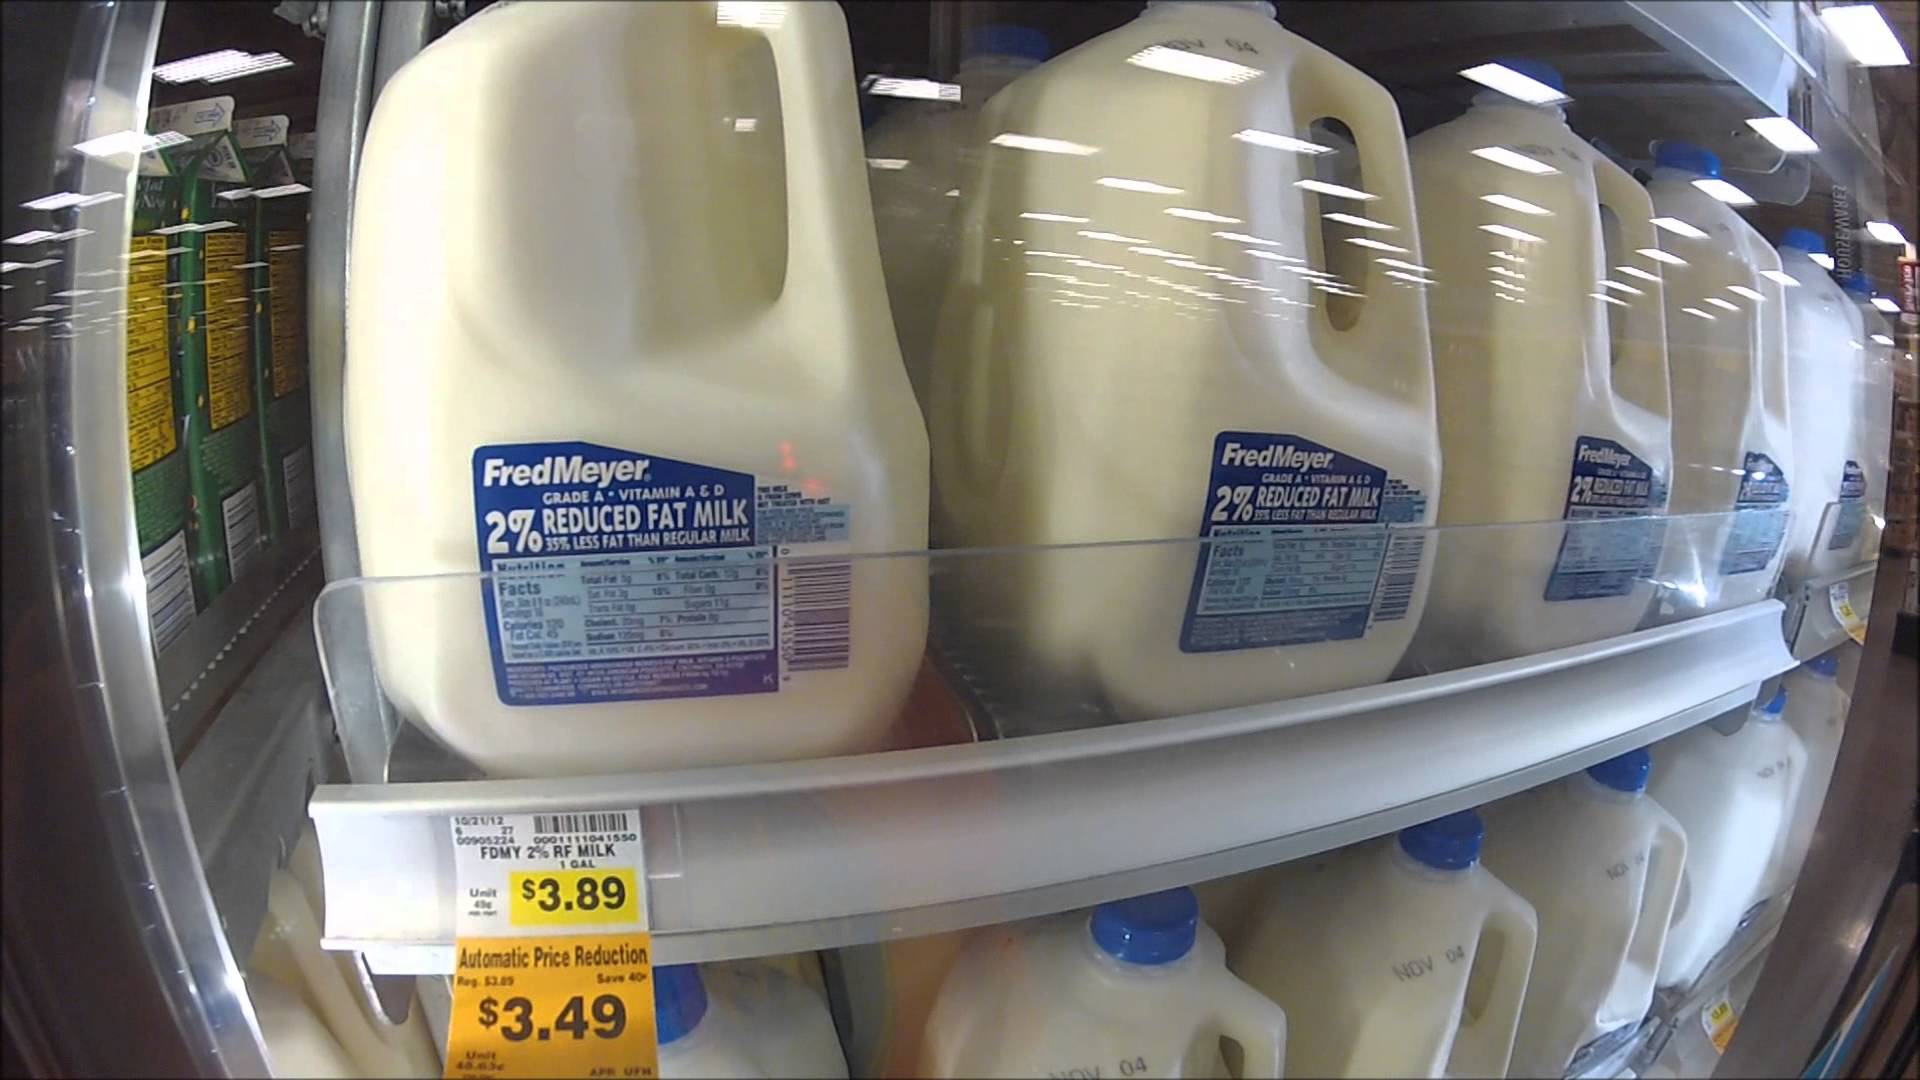milk: (340, 1, 956, 742), (1000, 3, 1425, 688), (1424, 80, 1676, 632), (1286, 822, 1538, 1080), (1665, 131, 1796, 601), (920, 931, 1329, 1076), (1553, 771, 1687, 1071), (1793, 218, 1859, 558)
